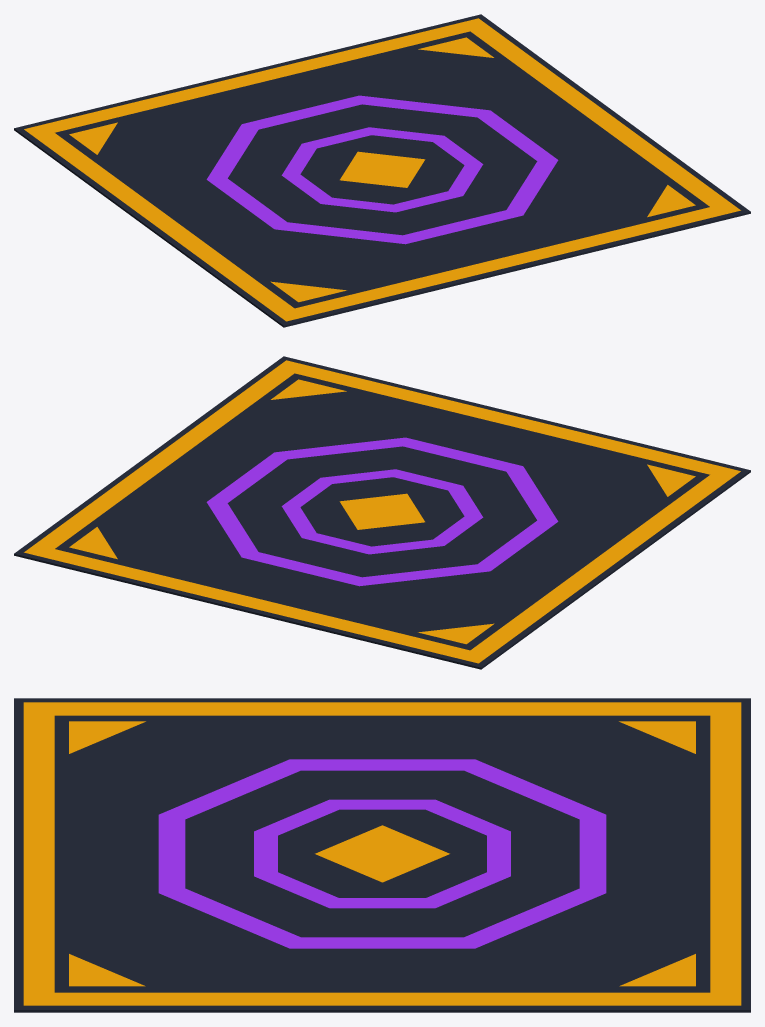
Rendered from OVL_Arena_Warn_Magnetic.obj.
The picture shows the model from 3 angles, top to bottom: view 1: azimuth 30°, elevation 25°; view 2: azimuth 150°, elevation 25°; view 3: azimuth 270°, elevation 25°; orthographic projection. The views are drawn at different scales.
Parts seen in each view (by area): view 1: OVL_Carrier_WarnMagnetic, OVL_WarnMag_AmberBorder, OVL_WarnMag_PreviewRings, OVL_WarnMag_PreviewAnchor; view 2: OVL_Carrier_WarnMagnetic, OVL_WarnMag_AmberBorder, OVL_WarnMag_PreviewRings, OVL_WarnMag_PreviewAnchor; view 3: OVL_Carrier_WarnMagnetic, OVL_WarnMag_AmberBorder, OVL_WarnMag_PreviewRings, OVL_WarnMag_PreviewAnchor.
Part boxes in pixels (x1,y1,x2,y2): OVL_Carrier_WarnMagnetic: [14, 14, 750, 327]; OVL_WarnMag_AmberBorder: [24, 18, 740, 321]; OVL_WarnMag_PreviewRings: [206, 95, 558, 244]; OVL_WarnMag_PreviewAnchor: [340, 151, 425, 187]; OVL_Carrier_WarnMagnetic: [14, 356, 750, 669]; OVL_WarnMag_AmberBorder: [24, 360, 740, 663]; OVL_WarnMag_PreviewRings: [206, 437, 558, 586]; OVL_WarnMag_PreviewAnchor: [339, 493, 424, 529]; OVL_Carrier_WarnMagnetic: [14, 698, 750, 1012]; OVL_WarnMag_AmberBorder: [23, 702, 741, 1005]; OVL_WarnMag_PreviewRings: [158, 759, 606, 948]; OVL_WarnMag_PreviewAnchor: [315, 825, 449, 882].
Size of the model in its own units: 11.4 by 0.05 by 11.4.
3 materials, 3 textured.
